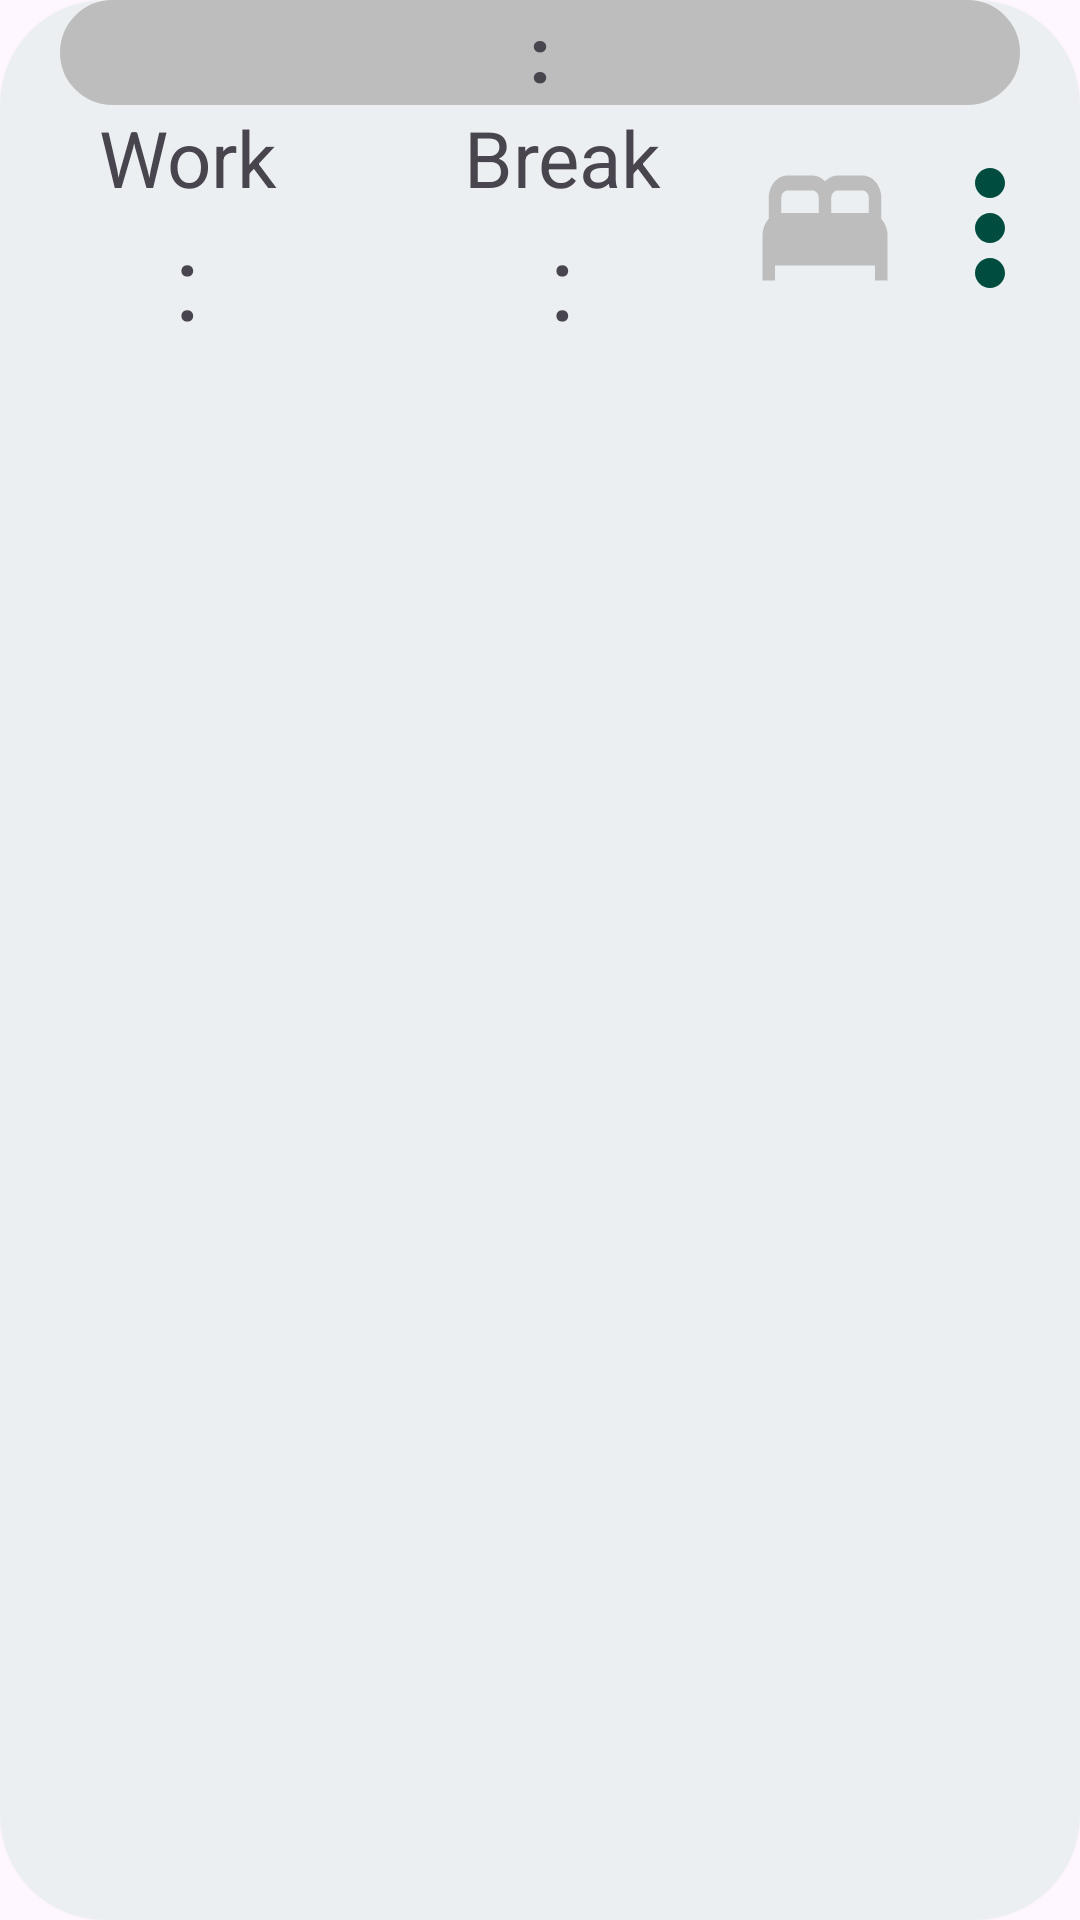

Icons on this 1080*1920 Android screen, each with the point to tap as (x,y):
more: (990,228)
